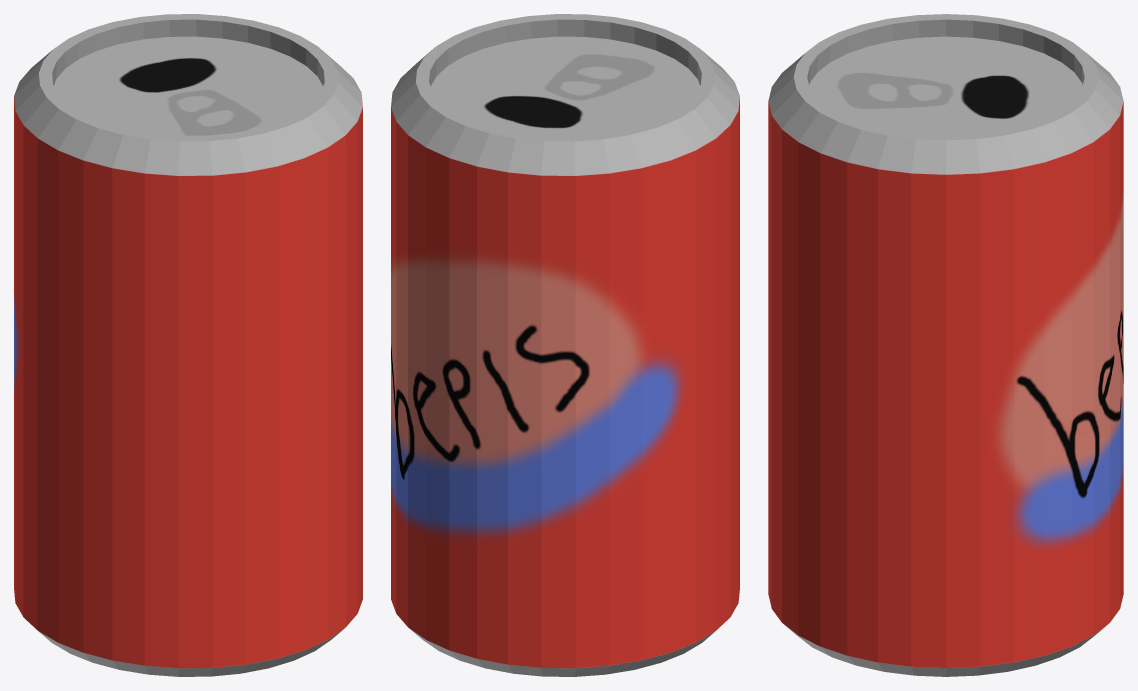
Rendered from bepis_can_soda.gltf.
The picture shows the model from 3 angles, left to right: view 1: azimuth 30°, elevation 25°; view 2: azimuth 150°, elevation 25°; view 3: azimuth 270°, elevation 25°; orthographic projection.
Visible parts, largest first — view 1: can; view 2: can; view 3: can.
Boxes of the visible parts, x1,y1,x2,y2 form: can: [14, 14, 362, 676]; can: [391, 14, 739, 676]; can: [768, 14, 1123, 676].
Bounding box in the file's own units: 0.059 × 0.0994 × 0.06.
Materials: 1 (1 with a texture image).
